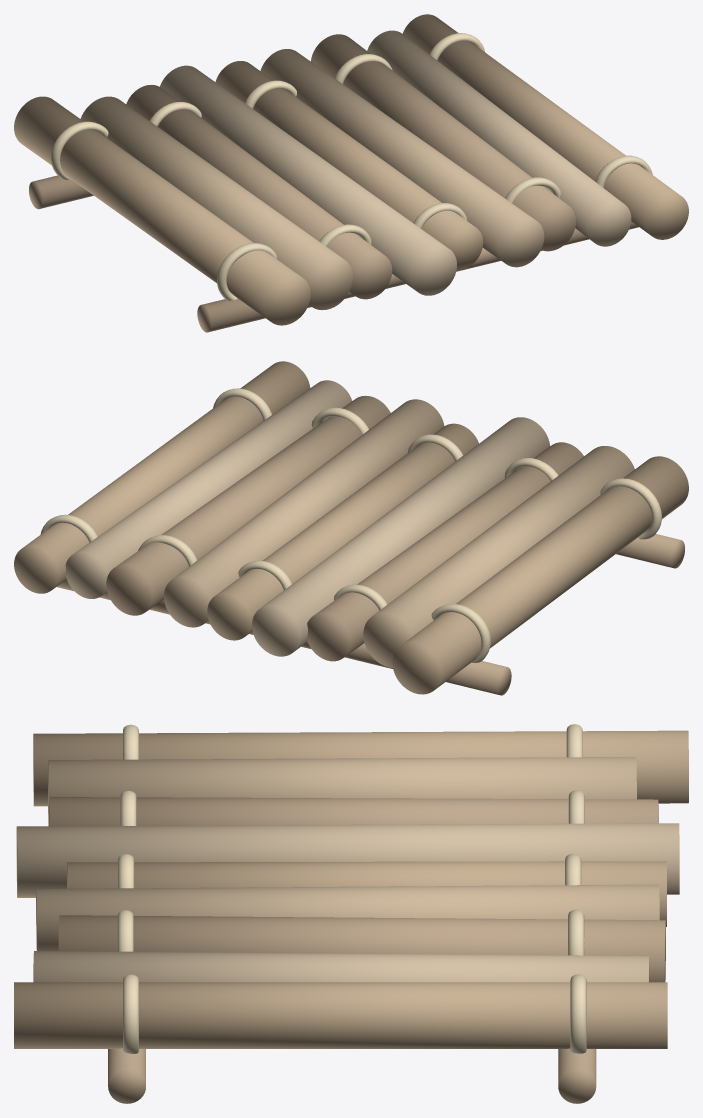
File: raft.glb
The picture shows the model from 3 angles, top to bottom: view 1: azimuth 30°, elevation 25°; view 2: azimuth 150°, elevation 25°; view 3: azimuth 270°, elevation 25°; orthographic projection. The views are drawn at different scales.
Visible parts, largest first — view 1: part_0, part_3, part_5, part_1, part_8, part_7, part_6, part_4, part_2, part_10, part_9, part_16 (+9 smaller); view 2: part_0, part_3, part_5, part_8, part_1, part_6, part_7, part_4, part_2, part_9, part_10, part_16 (+9 smaller); view 3: part_8, part_3, part_1, part_6, part_5, part_0, part_7, part_2, part_4, part_9, part_10, part_15 (+4 smaller).
Boxes of the visible parts, box(x1,y1,x2,y2) form: part_0: box(14, 96, 310, 325); part_3: box(160, 65, 456, 295); part_5: box(260, 49, 544, 267); part_1: box(80, 96, 352, 309); part_8: box(402, 14, 688, 239); part_7: box(367, 30, 631, 246); part_6: box(311, 34, 575, 251); part_4: box(215, 61, 483, 270); part_2: box(126, 85, 392, 299); part_10: box(197, 221, 638, 332); part_9: box(29, 175, 93, 209); part_16: box(217, 243, 276, 300); part_0: box(392, 456, 688, 694); part_3: box(252, 417, 549, 656); part_5: box(164, 399, 444, 627); part_8: box(14, 361, 310, 593); part_1: box(363, 446, 634, 667); part_6: box(106, 395, 390, 615); part_7: box(65, 380, 352, 598); part_4: box(207, 423, 478, 640); part_2: box(306, 442, 583, 661); part_9: box(57, 579, 511, 695); part_10: box(616, 534, 684, 568); part_16: box(600, 478, 661, 539); part_8: box(14, 982, 667, 1048); part_3: box(16, 823, 679, 897); part_1: box(48, 757, 636, 826); part_6: box(58, 915, 665, 982); part_5: box(36, 884, 659, 950); part_0: box(33, 730, 688, 806); part_7: box(33, 951, 649, 982); part_2: box(49, 797, 658, 826); part_4: box(67, 861, 666, 926); part_9: box(558, 1048, 596, 1103); part_10: box(108, 1048, 145, 1103); part_15: box(570, 974, 586, 1053).
Size of the model in its own units: 2.65 by 0.406 by 2.48.
